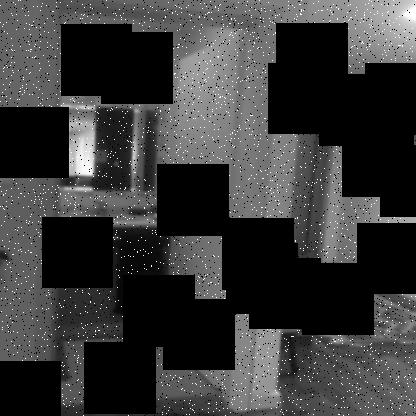Porte: (31, 0, 278, 415)
